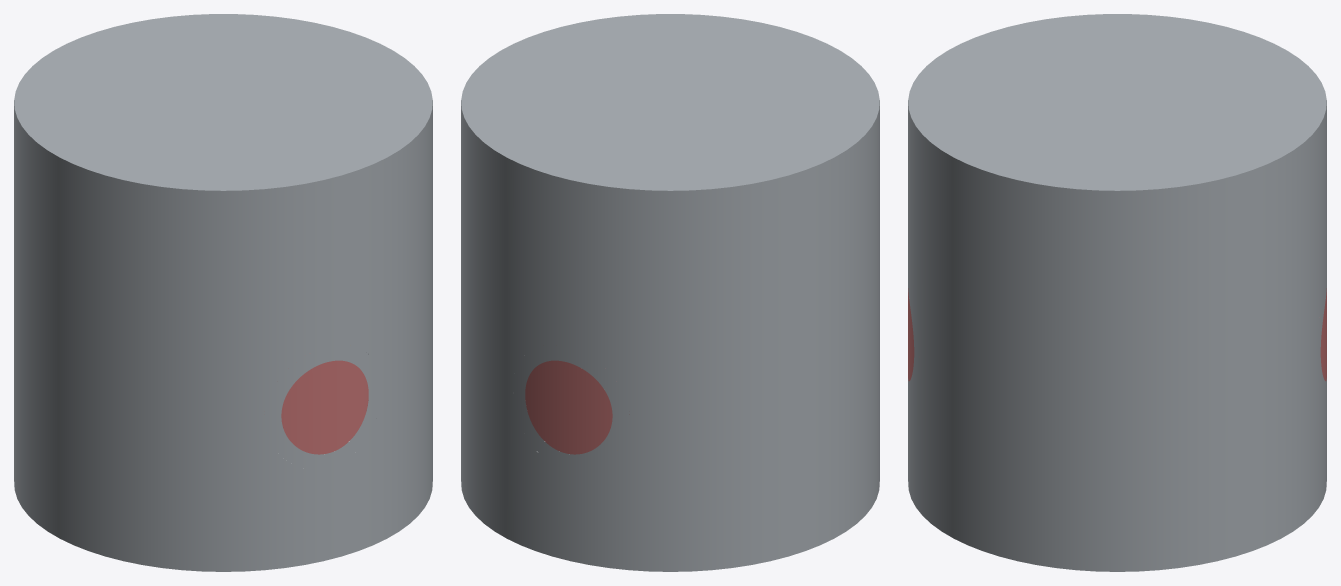
File: step_18.glb
The picture shows the model from 3 angles, left to right: view 1: azimuth 30°, elevation 25°; view 2: azimuth 150°, elevation 25°; view 3: azimuth 270°, elevation 25°; orthographic projection.
Parts seen in each view (by area): view 1: part__piston, removed__piston; view 2: part__piston, removed__piston; view 3: part__piston, removed__piston.
Boxes of the visible parts, box(x1,y1,x2,y2) form: part__piston: box(14, 14, 432, 571); removed__piston: box(281, 360, 368, 454); part__piston: box(461, 14, 879, 571); removed__piston: box(525, 360, 629, 454); part__piston: box(908, 14, 1326, 571); removed__piston: box(908, 288, 1326, 381).
Size of the model in its own units: 49.77 by 50 by 49.8.
